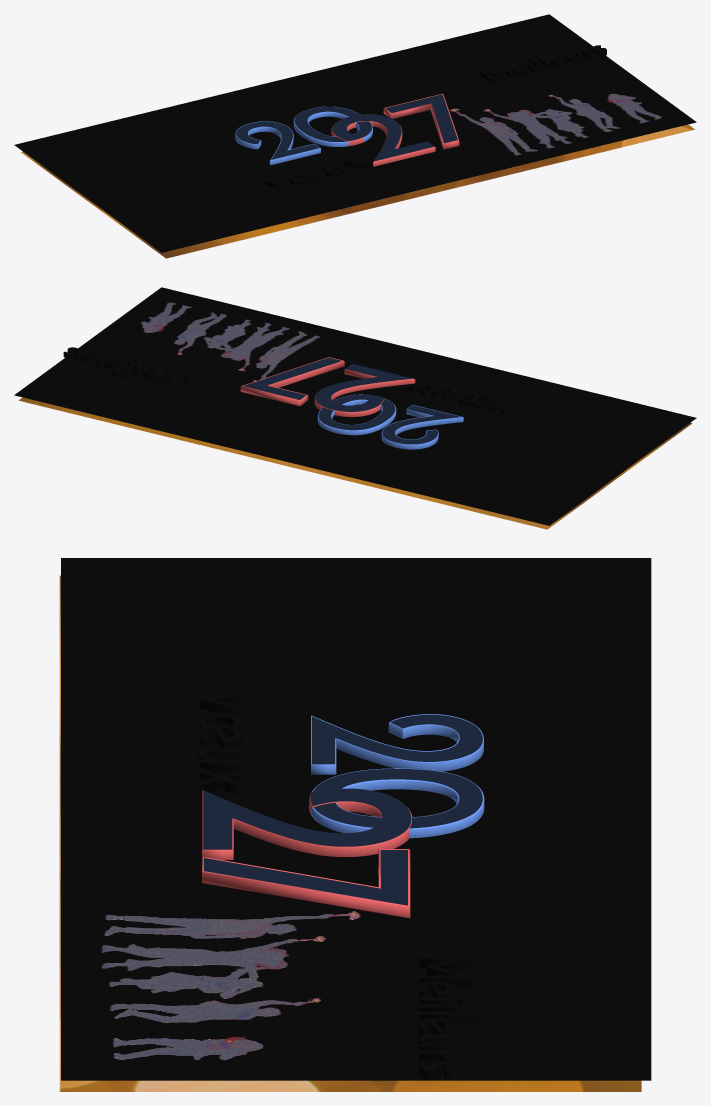
The model's file is Teste_carte_voeux_N6_25-11.glb.
The picture shows the model from 3 angles, top to bottom: view 1: azimuth 30°, elevation 25°; view 2: azimuth 150°, elevation 25°; view 3: azimuth 270°, elevation 25°; orthographic projection. The views are drawn at different scales.
Visible parts, largest first — view 1: silhouettes@4.167x, Carte_voeux_2027_PNG.001, sec-2, Meilleurs, voeux, first-2, 0, 7, first-2-stroke, sec-2-stroke, 7-stroke, 0-stroke; view 2: silhouettes@4.167x, Carte_voeux_2027_PNG.001, sec-2, Meilleurs, 7-stroke, voeux, first-2-stroke, first-2, 0, 7, sec-2-stroke, 0-stroke; view 3: silhouettes@4.167x, Carte_voeux_2027_PNG.001, sec-2, Meilleurs, voeux, 0, first-2, 7, 7-stroke, first-2-stroke, sec-2-stroke, 0-stroke.
Boxes of the visible parts, x1,y1,x2,y2 form: silhouettes@4.167x: [14, 14, 696, 252]; Carte_voeux_2027_PNG.001: [21, 124, 694, 258]; sec-2: [332, 114, 434, 161]; Meilleurs: [477, 45, 606, 83]; voeux: [262, 156, 368, 190]; first-2: [236, 121, 319, 159]; 0: [294, 106, 371, 141]; 7: [385, 94, 457, 143]; first-2-stroke: [235, 121, 320, 165]; sec-2-stroke: [331, 121, 435, 166]; 7-stroke: [383, 93, 459, 149]; 0-stroke: [293, 106, 372, 146]; silhouettes@4.167x: [14, 287, 696, 525]; Carte_voeux_2027_PNG.001: [19, 397, 692, 529]; sec-2: [315, 363, 412, 411]; Meilleurs: [63, 347, 187, 389]; 7-stroke: [240, 357, 344, 406]; voeux: [408, 380, 508, 414]; first-2-stroke: [381, 405, 463, 449]; first-2: [382, 405, 460, 444]; 0: [318, 394, 395, 430]; 7: [243, 357, 341, 399]; sec-2-stroke: [314, 369, 415, 416]; 0-stroke: [317, 394, 396, 435]; silhouettes@4.167x: [61, 558, 651, 1080]; Carte_voeux_2027_PNG.001: [59, 575, 641, 1091]; sec-2: [203, 788, 411, 849]; Meilleurs: [418, 955, 477, 1079]; voeux: [198, 691, 241, 795]; 0: [313, 769, 482, 828]; first-2: [312, 714, 482, 764]; 7: [204, 850, 407, 905]; 7-stroke: [202, 849, 410, 918]; first-2-stroke: [311, 714, 483, 774]; sec-2-stroke: [202, 790, 412, 859]; 0-stroke: [311, 768, 484, 838].
Bounding box in the file's own units: 0.213 × 0.00476 × 0.1017.
Materials: 8 (2 with a texture image).
